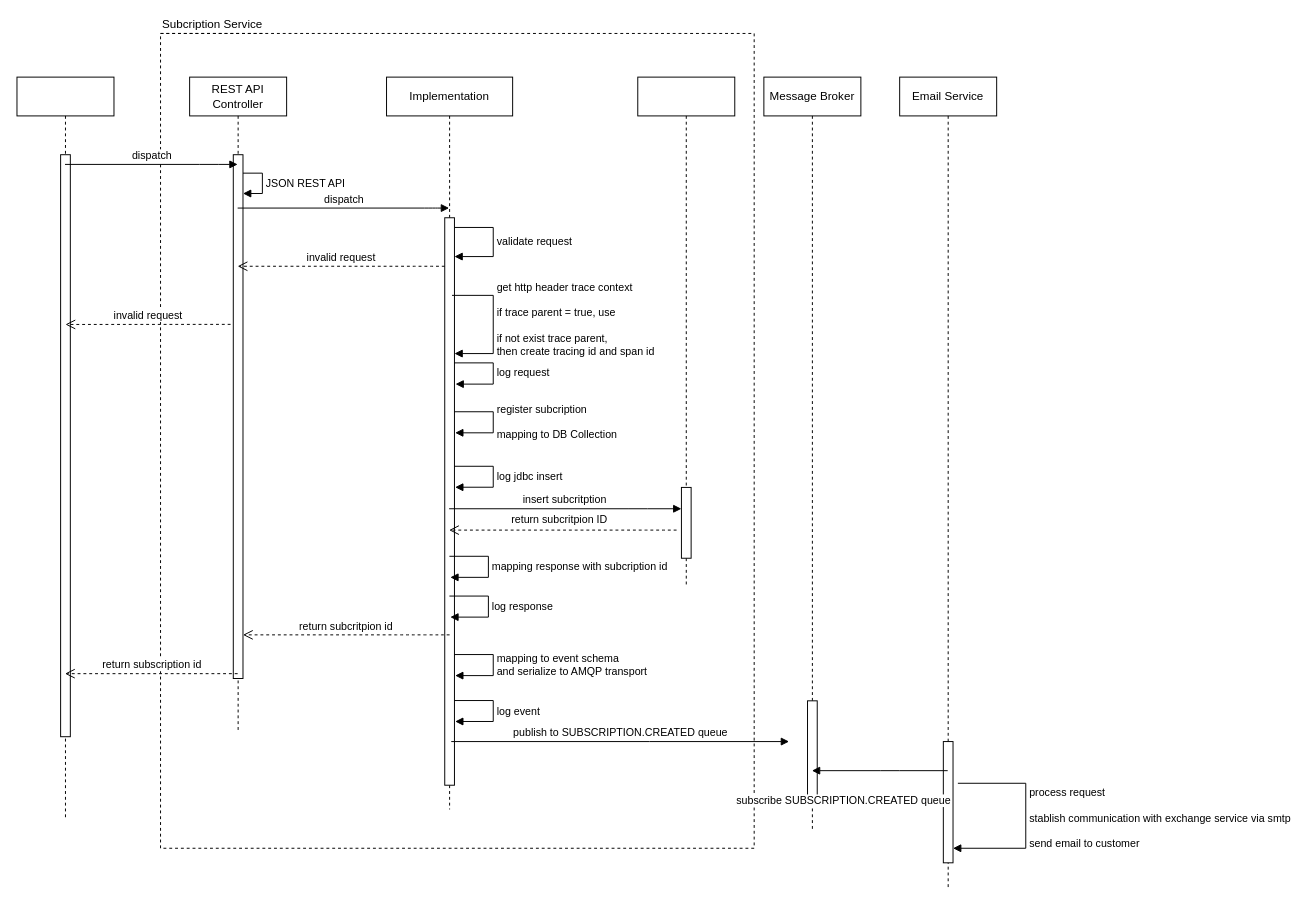
Image size: 1309x904. Some labels were removed from this diagram. The shapes that lost their labels are listed below. From the top down, each one's box as (x1, y1, x2, y2) in pixels, then its label:
(637, 76, 735, 586): Mongo DB
(16, 76, 114, 819): Subscritpion API
